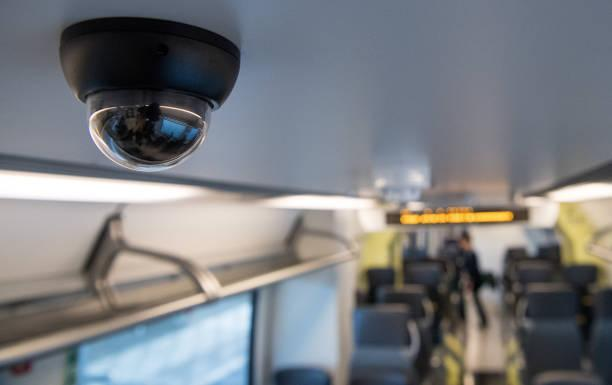camera: (40, 15, 249, 179)
